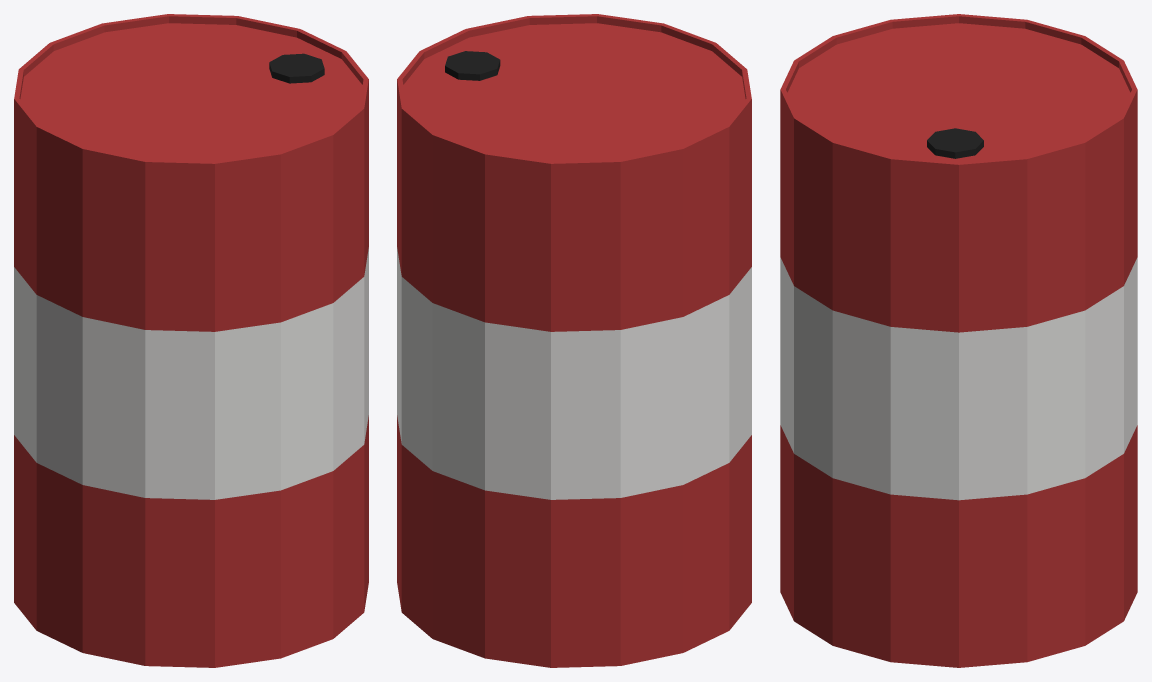
The model's file is SM_barrel_oil.fbx.
3 renders of one model, left to right at view 1: azimuth 30°, elevation 25°; view 2: azimuth 150°, elevation 25°; view 3: azimuth 270°, elevation 25°, orthographic.
Visible parts, largest first — view 1: Cylinder018; view 2: Cylinder018; view 3: Cylinder018.
Part boxes in pixels (x1=…): Cylinder018: x1=14, y1=14, x2=368, y2=667; Cylinder018: x1=397, y1=14, x2=751, y2=667; Cylinder018: x1=780, y1=14, x2=1137, y2=667.
Bounding box in the file's own units: 28.66 × 28.66 × 44.56.
